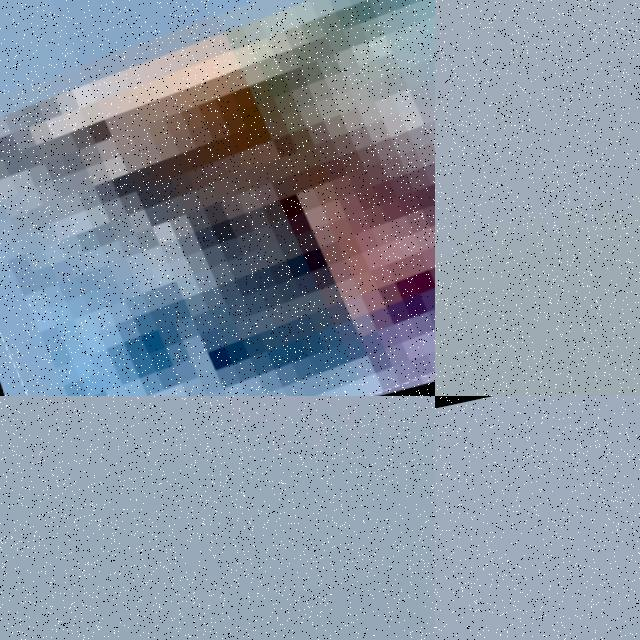drone: (0, 0, 435, 396)
